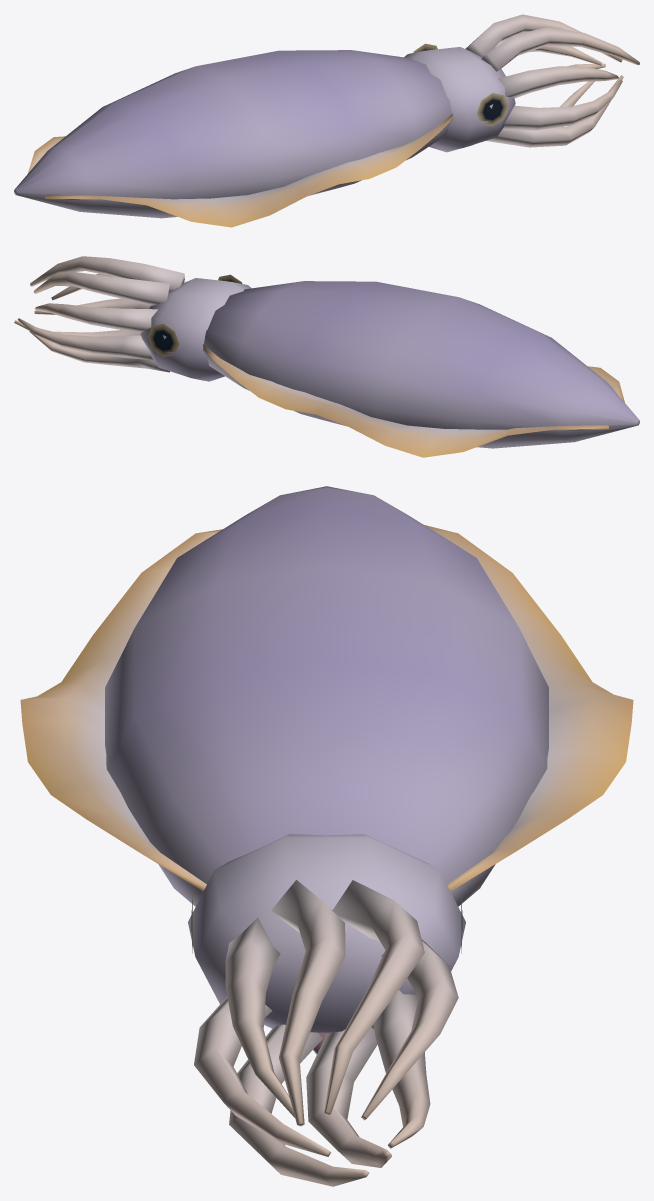
Rendered from creature-cuttlefish.glb.
The picture shows the model from 3 angles, top to bottom: view 1: azimuth 30°, elevation 25°; view 2: azimuth 150°, elevation 25°; view 3: azimuth 270°, elevation 25°; orthographic projection. The views are drawn at different scales.
Parts seen in each view (by area): view 1: creature-cuttlefish.002; view 2: creature-cuttlefish.002; view 3: creature-cuttlefish.002.
Part boxes in pixels (x1,y1,x2,y2): creature-cuttlefish.002: (14,14,639,227); creature-cuttlefish.002: (14,256,639,457); creature-cuttlefish.002: (20,486,633,1186).
Size of the model in its own units: 3.78 by 0.7788 by 1.63.
